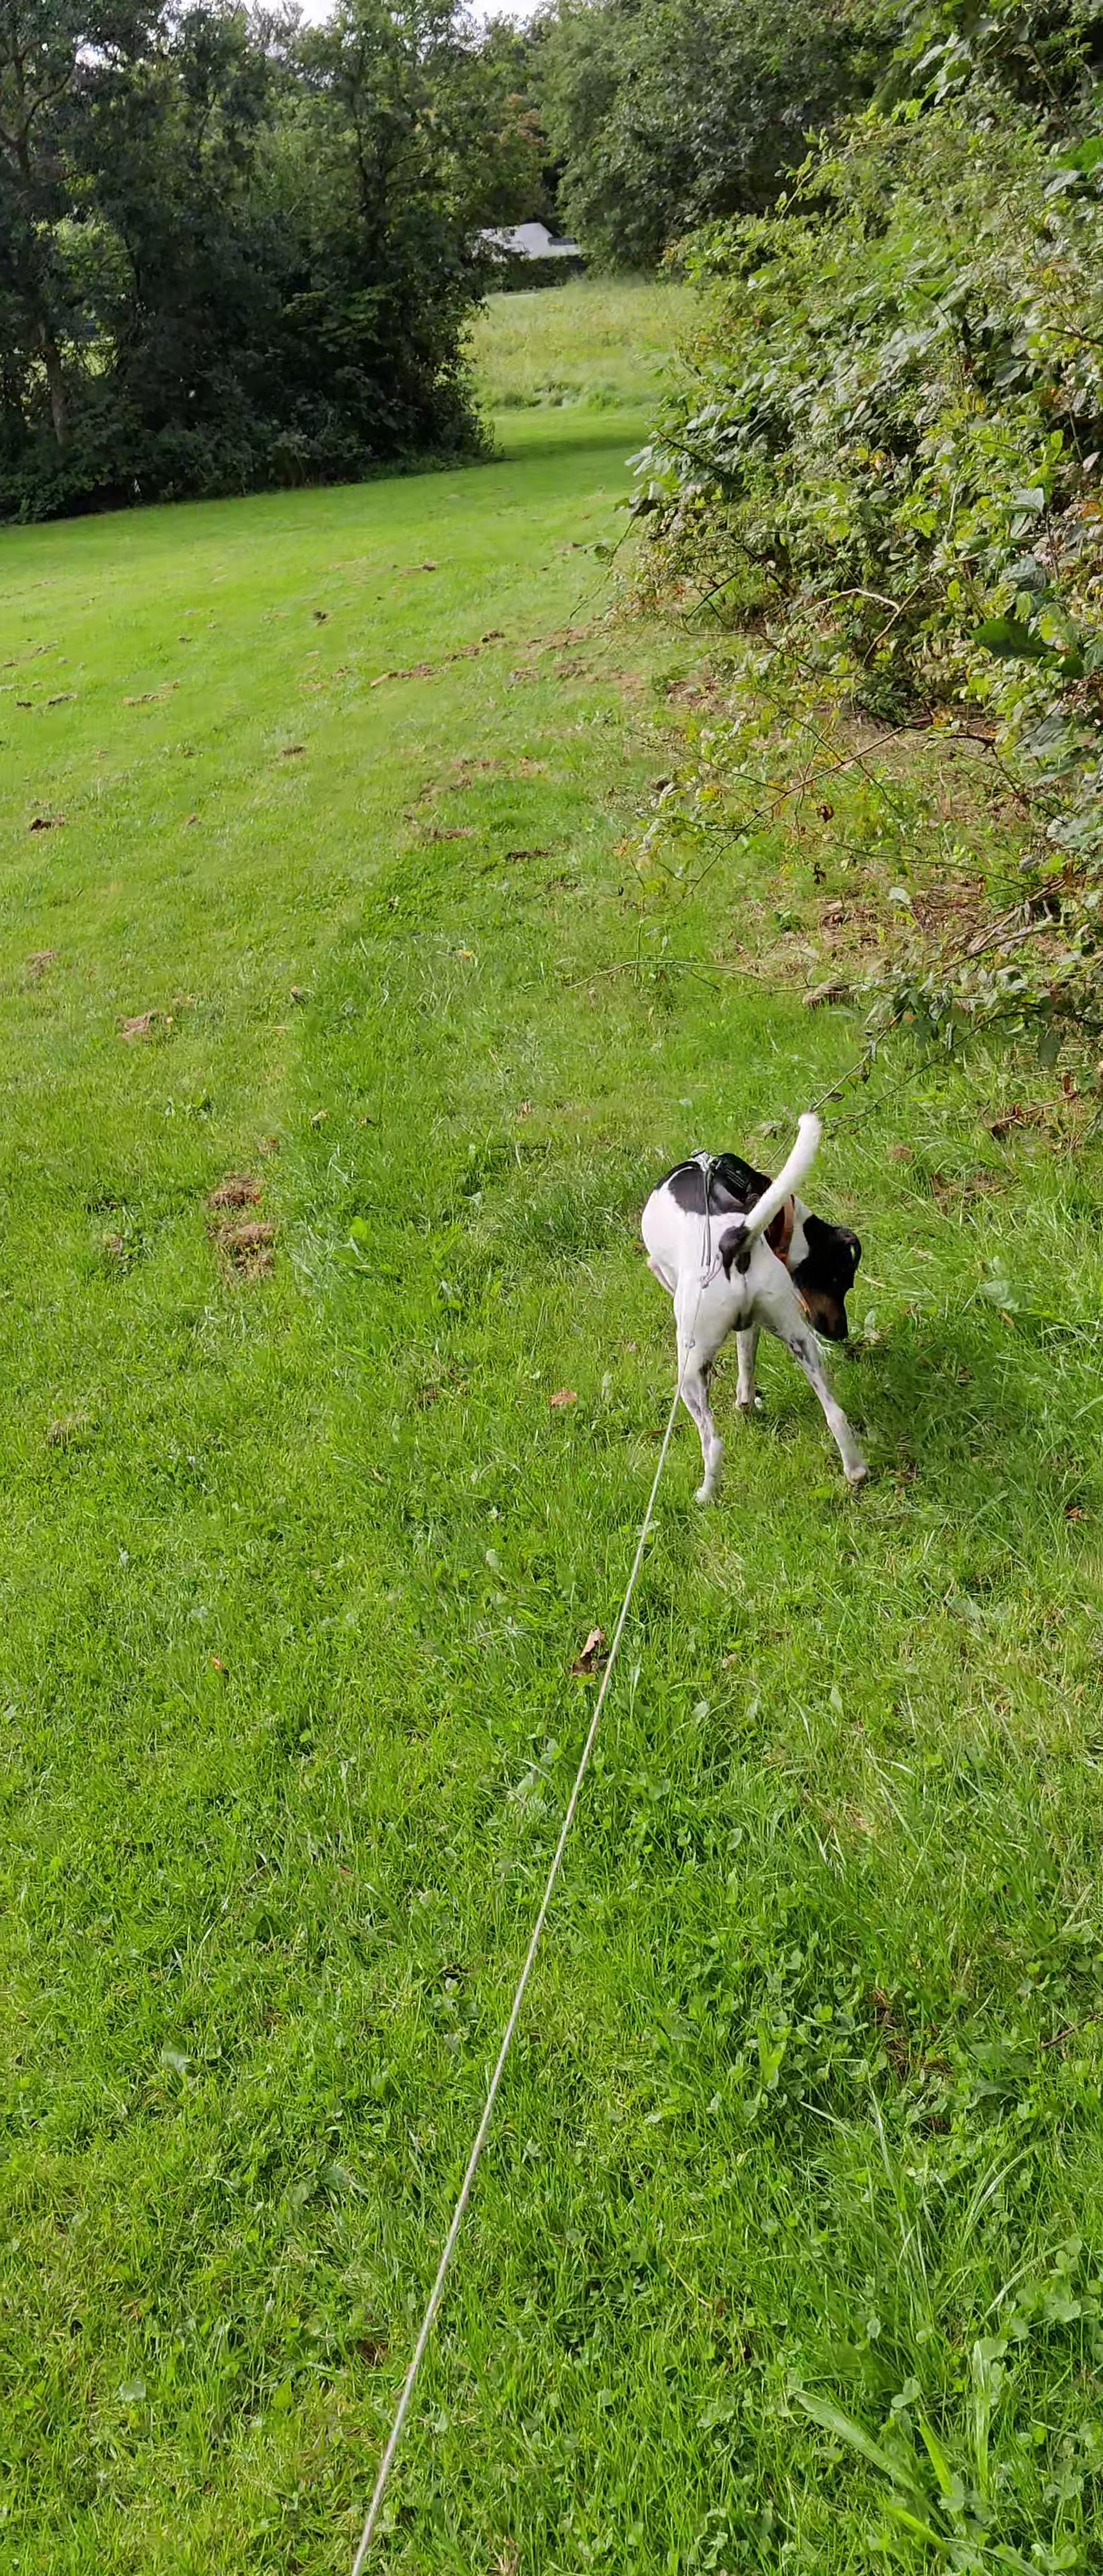Dog: (625, 1106, 883, 1510)
